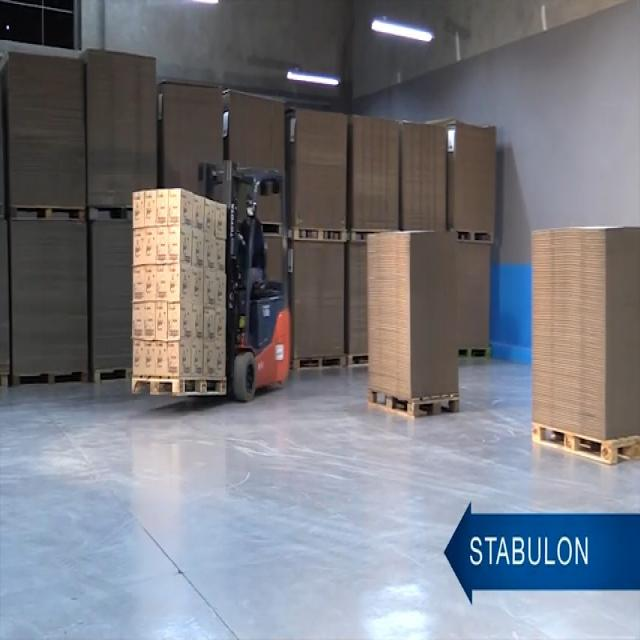Chariot elevateur: (202, 160, 290, 405)
Palette: (527, 420, 640, 481), (366, 384, 468, 421), (3, 359, 94, 396), (1, 196, 89, 232), (130, 373, 227, 403), (89, 200, 139, 239), (290, 223, 348, 252), (91, 356, 134, 393), (290, 353, 344, 379), (448, 223, 497, 248), (455, 339, 500, 364), (348, 227, 395, 248), (344, 347, 372, 373)
